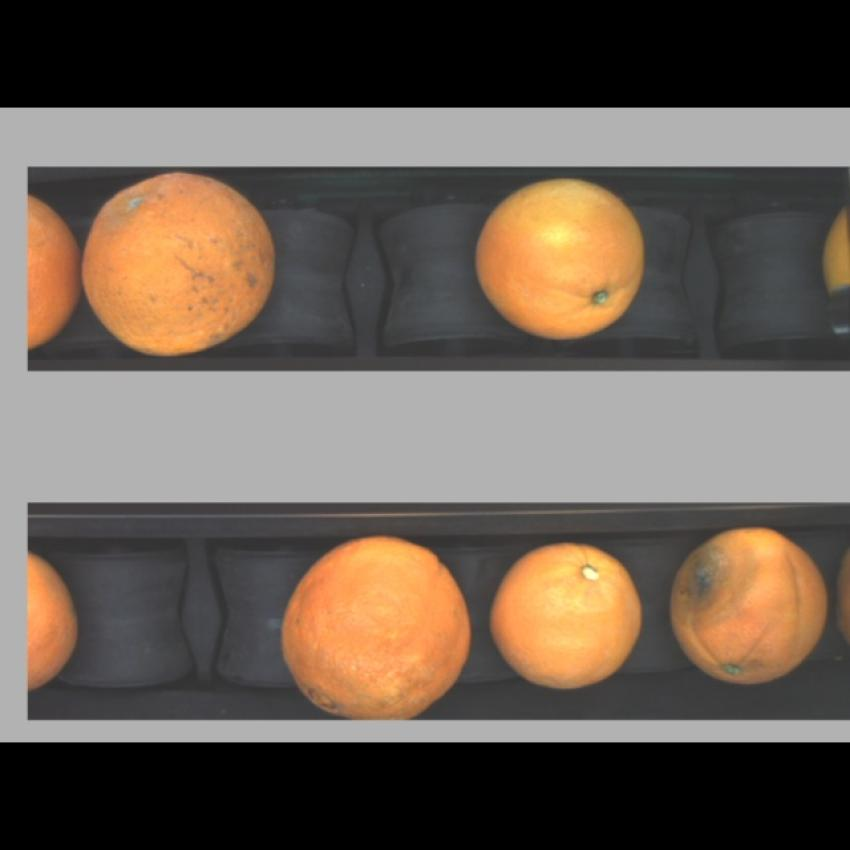Buen estado: (474, 174, 648, 340), (491, 534, 645, 693), (29, 186, 81, 349), (29, 542, 83, 694)
Mal estado: (82, 172, 283, 358), (276, 528, 473, 716), (669, 523, 829, 682)
